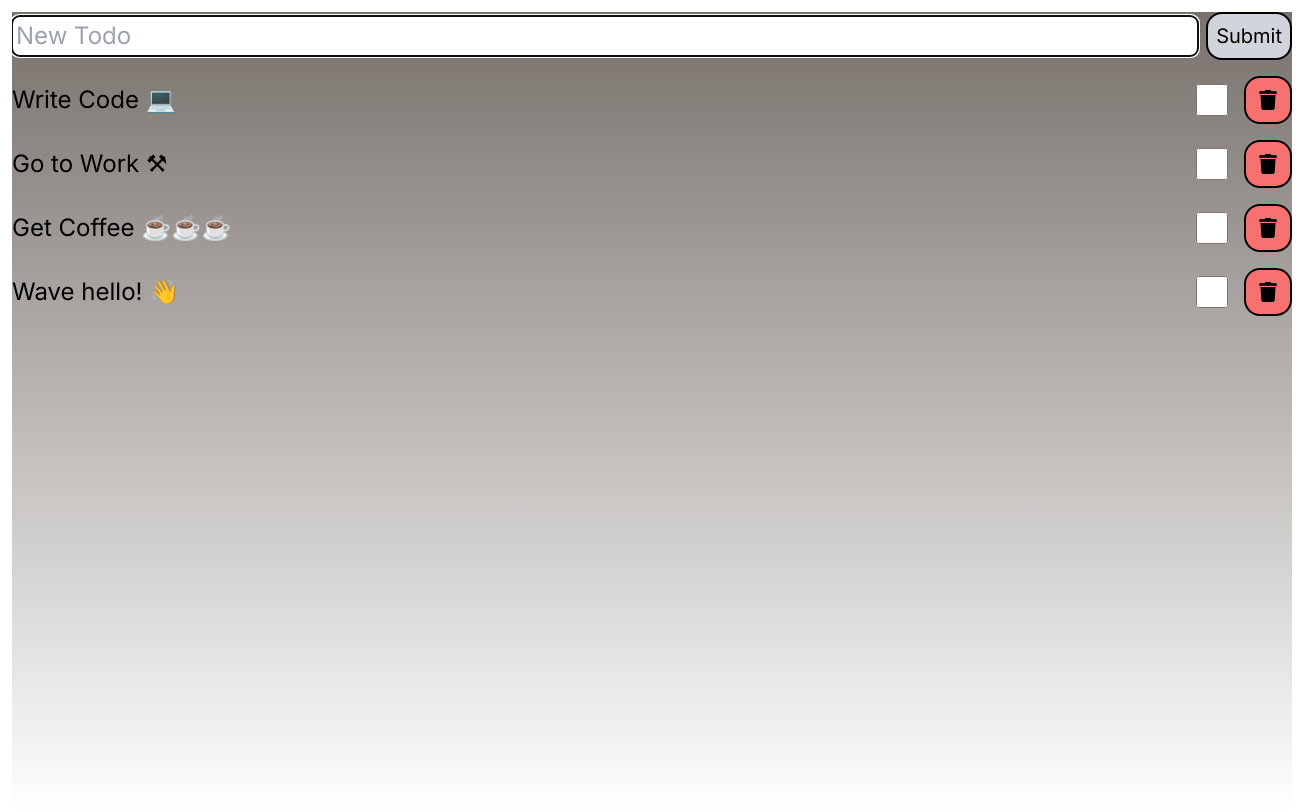
Test: Home › should add todo, clear input box on button clicked & render inside list
The image size is (1304, 812).
Type "Todo Item Text" into the field.
click(605, 36); type("Todo Item Text")  # box [12,16,1198,56]
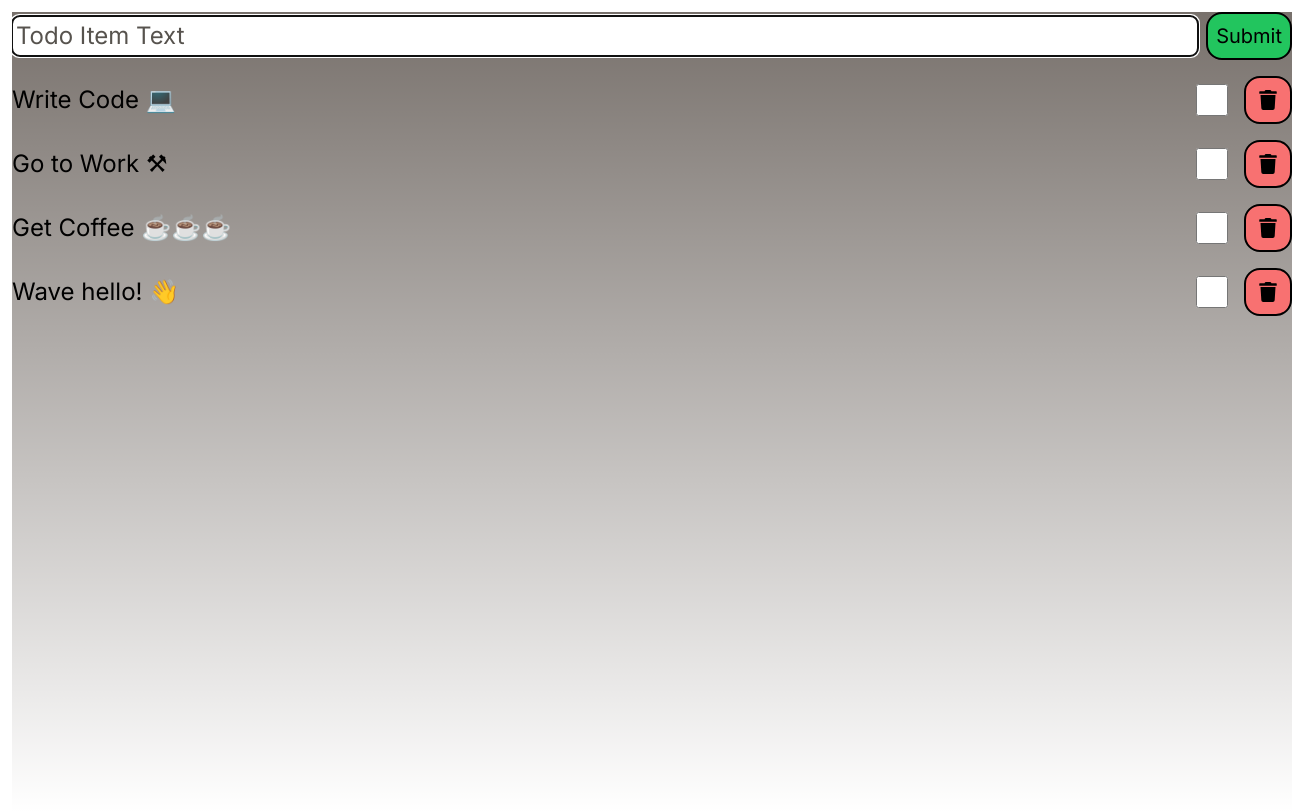
Click the button "Submit".
click(1249, 36)  # box [1206,12,1292,60]
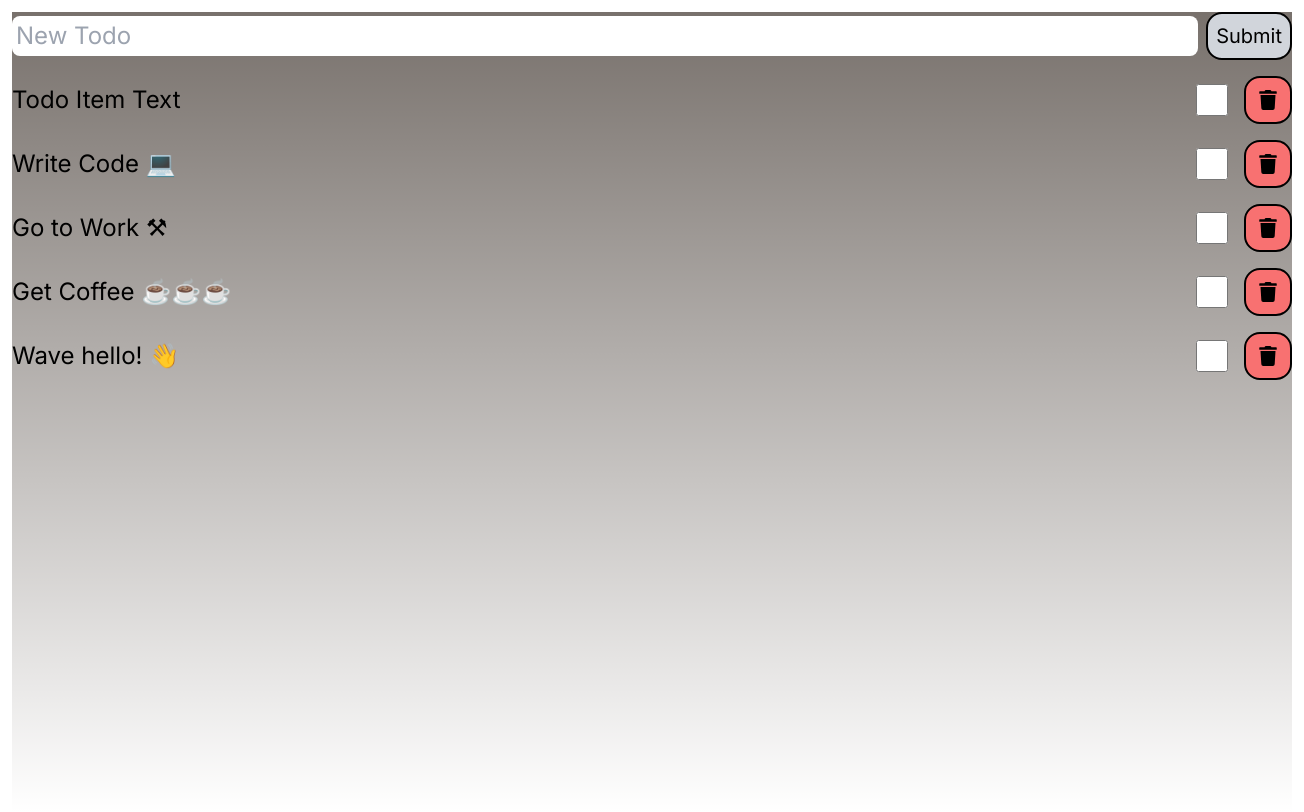
Now the field is empty, box [12,16,1198,56]
Now the text "Todo Item Text" is shown, box [12,84,180,116]
